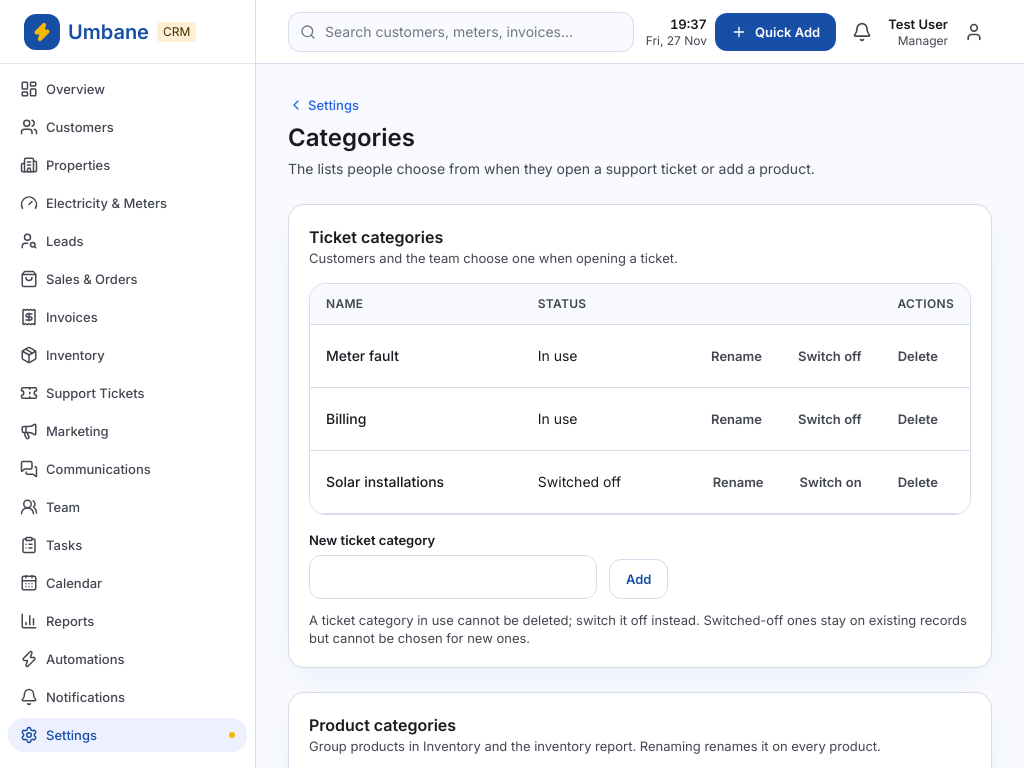
Test: categories › adds, switches on and explains why one cannot be deleted
Check: the text "Switched off" is shown, box x1=522 y1=450 x2=649 y2=514
Type "Prepaid tokens" into the field labelled "New ticket category" at (453, 577), box x1=309 y1=555 x2=597 y2=599
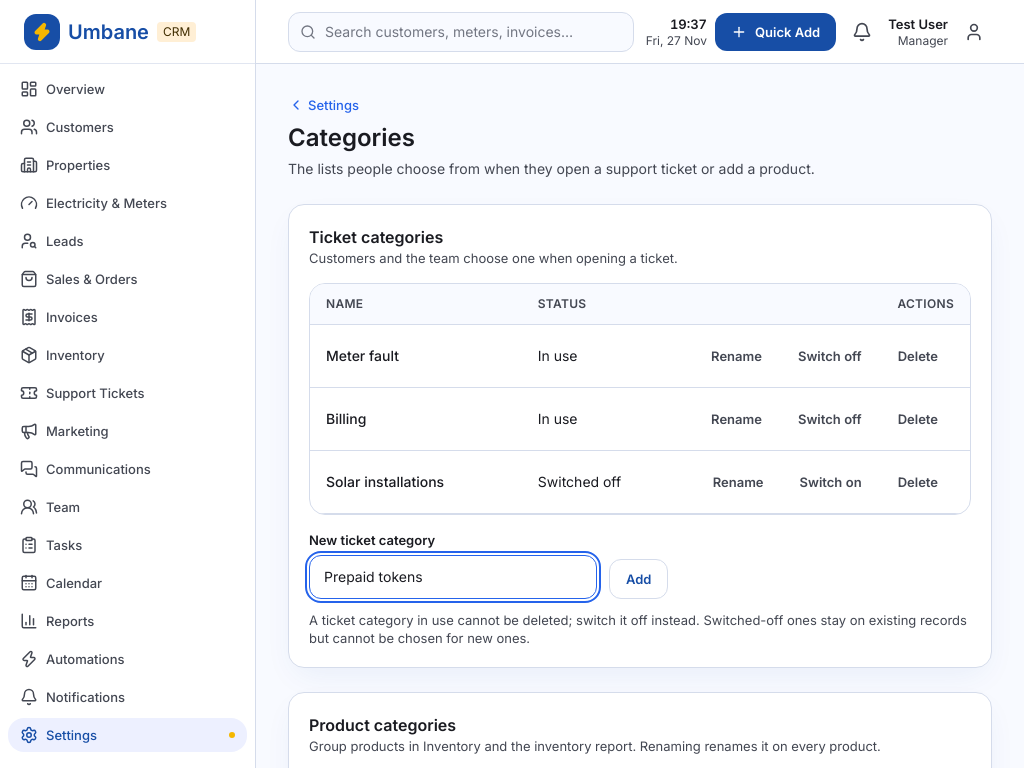
Click the button "Add" at (639, 579), box x1=609 y1=559 x2=668 y2=599
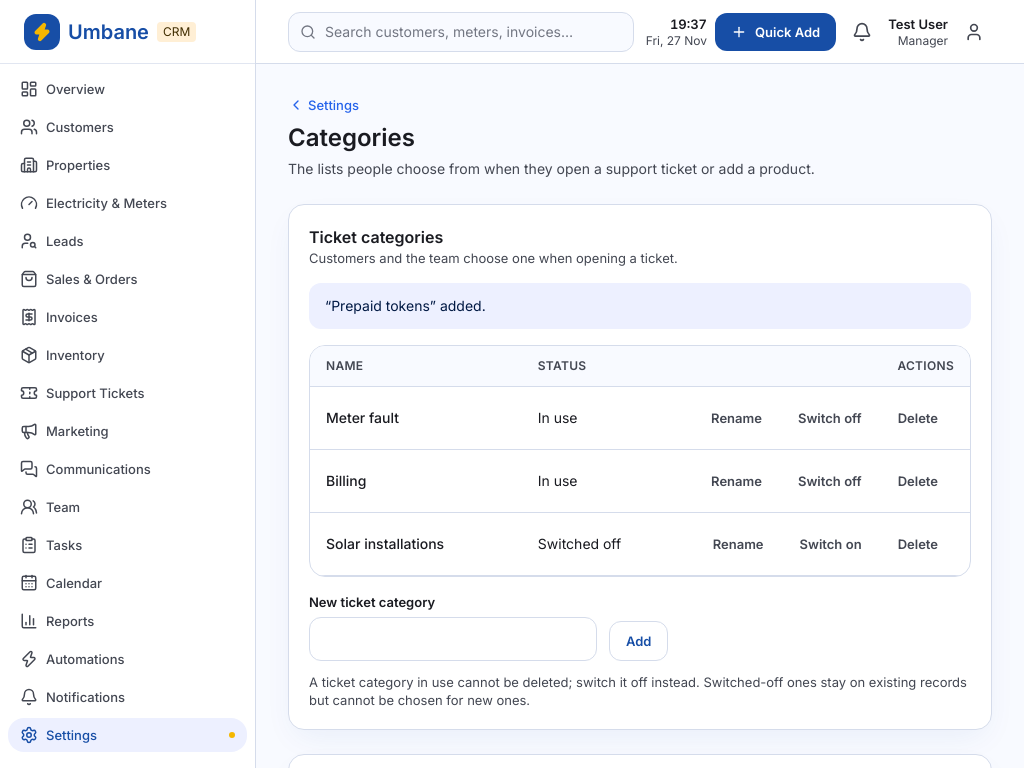
Click the button with aria-label "Switch on Solar installations" at (831, 544), box x1=784 y1=525 x2=878 y2=563
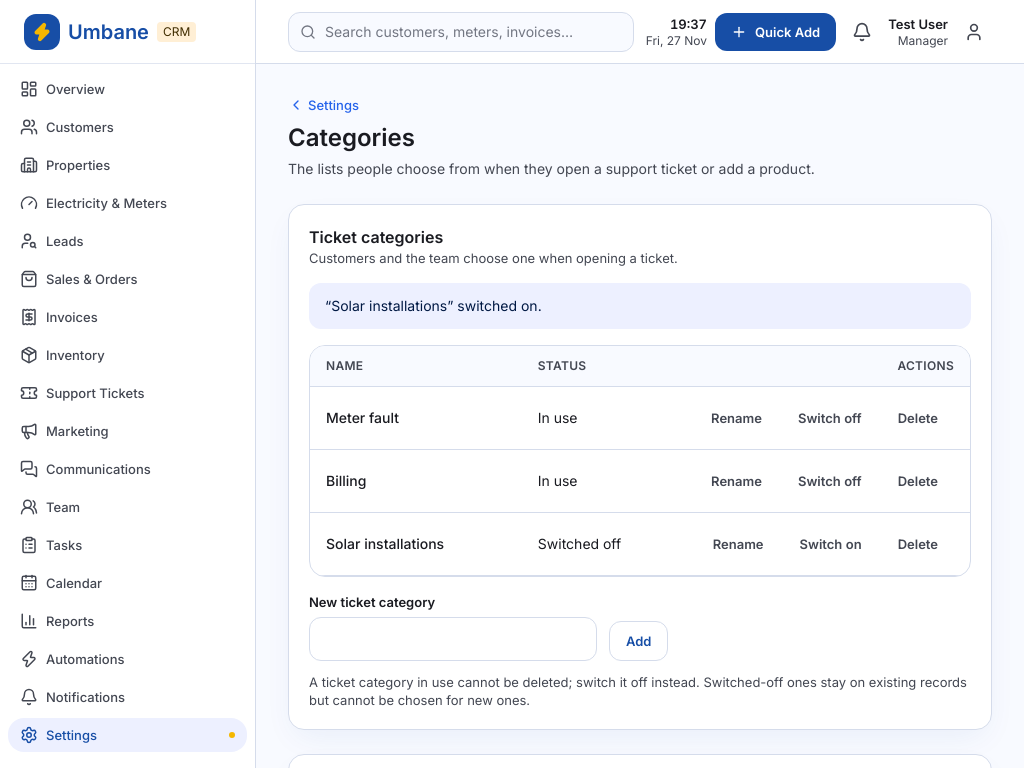
Click the button with aria-label "Delete Billing" at (918, 481), box x1=882 y1=462 x2=954 y2=500
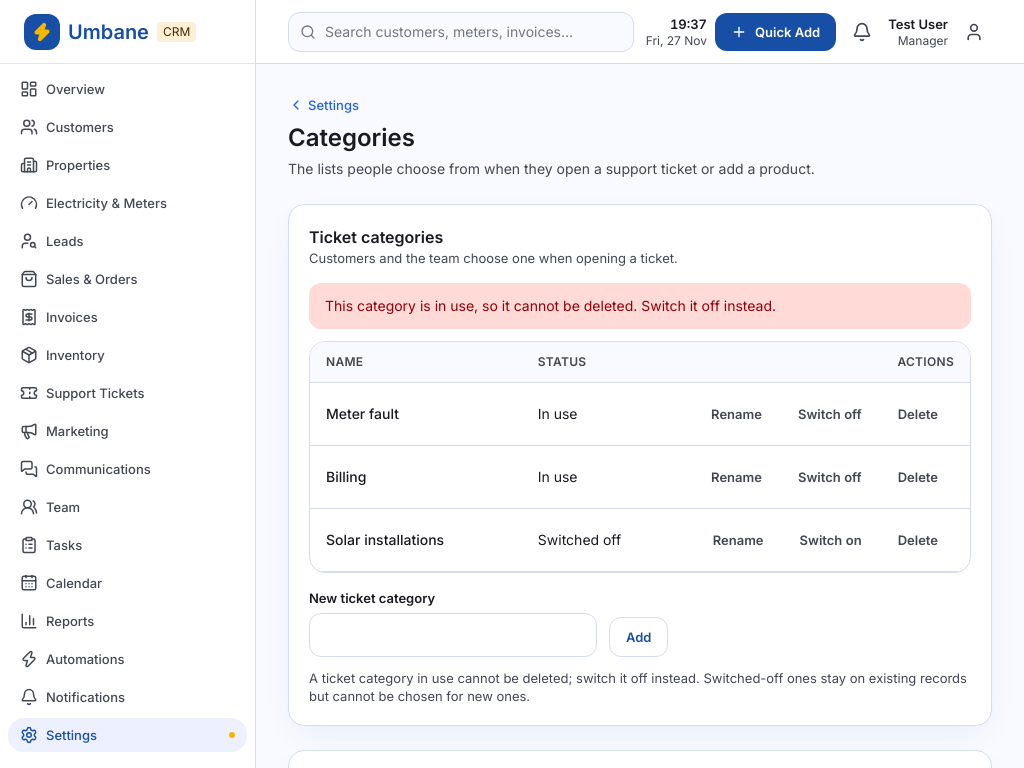
Check: the text "This category is in use, so it cannot be deleted. Switch it off instead." is shown, box x1=309 y1=283 x2=971 y2=329
